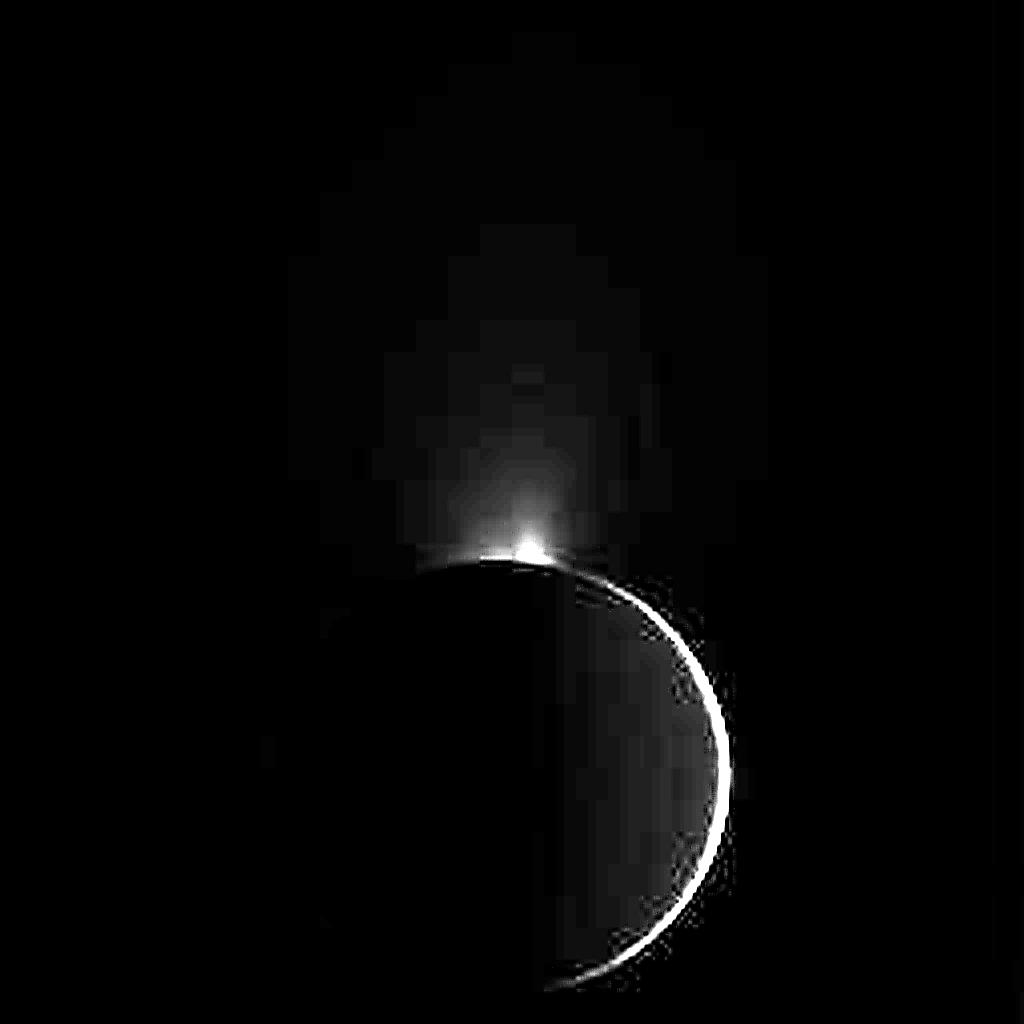plumes: (455, 501, 562, 569)
